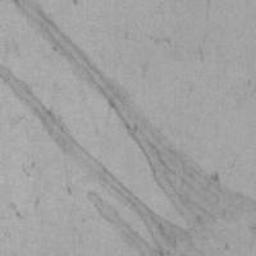Water spot: (1, 0, 256, 256)
